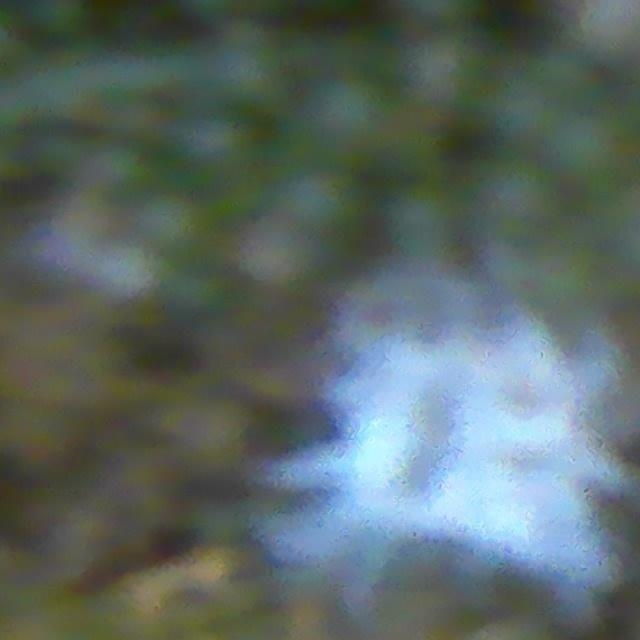SeaGrape: (305, 74, 389, 157), (400, 30, 484, 111), (474, 156, 559, 236), (238, 217, 314, 293), (282, 166, 360, 237), (137, 190, 209, 256), (588, 0, 640, 47)
